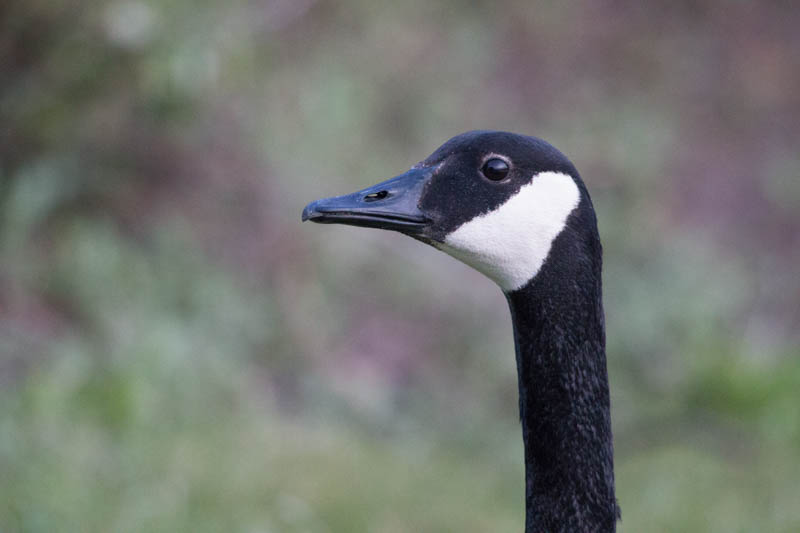goose-head: (300, 130, 603, 297)
